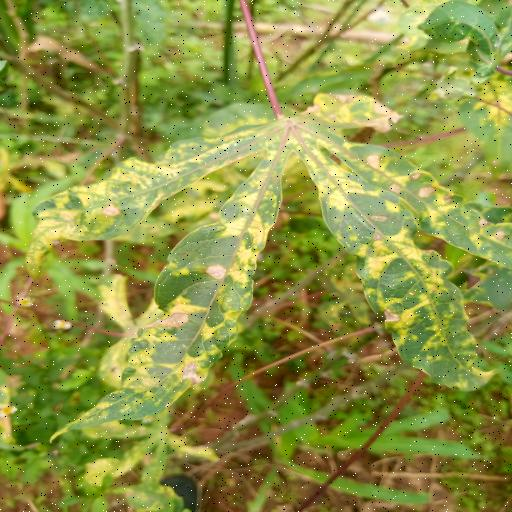Cassava_Mosaic: (36, 94, 512, 434)
